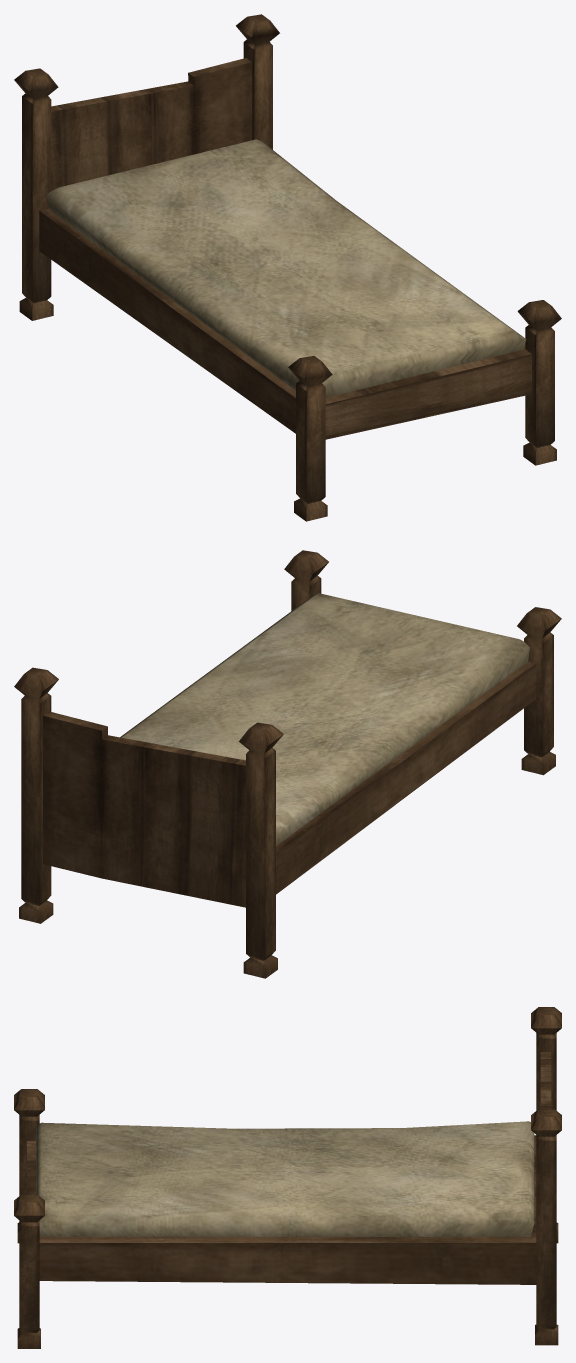
The model's file is bed_spanish.fbx.
3 renders of one model, top to bottom at view 1: azimuth 30°, elevation 25°; view 2: azimuth 150°, elevation 25°; view 3: azimuth 270°, elevation 25°, orthographic. The views are drawn at different scales.
Visible parts, largest first — view 1: mattress1, pasted__base1, pasted__headboard1, pasted__postA, pasted__postA2, pasted__postA3, pasted__postA1; view 2: mattress1, pasted__headboard1, pasted__base1, pasted__postA, pasted__postA1, pasted__postA2, pasted__postA3; view 3: mattress1, pasted__base1, pasted__postA1, pasted__postA3, pasted__postA, pasted__postA2, pasted__headboard1.
Part boxes in pixels (x1,y1,x2,y2): mattress1: (46, 139, 526, 397); pasted__base1: (39, 208, 531, 439); pasted__headboard1: (51, 58, 251, 191); pasted__postA: (14, 68, 58, 320); pasted__postA2: (288, 356, 332, 521); pasted__postA3: (517, 300, 561, 465); pasted__postA1: (236, 14, 279, 149); mattress1: (120, 593, 529, 845); pasted__headboard1: (43, 711, 245, 907); pasted__base1: (276, 661, 536, 894); pasted__postA: (239, 722, 283, 978); pasted__postA1: (14, 667, 58, 923); pasted__postA2: (517, 607, 561, 775); pasted__postA3: (284, 550, 328, 610); mattress1: (36, 1121, 534, 1236); pasted__base1: (27, 1135, 536, 1284); pasted__postA1: (531, 1109, 561, 1345); pasted__postA3: (14, 1194, 44, 1348); pasted__postA: (531, 1007, 561, 1243); pasted__postA2: (14, 1089, 44, 1243); pasted__headboard1: (540, 1052, 551, 1108).
Size of the model in its own units: 434 by 389 by 847.
Materials: 1 (1 with a texture image).
